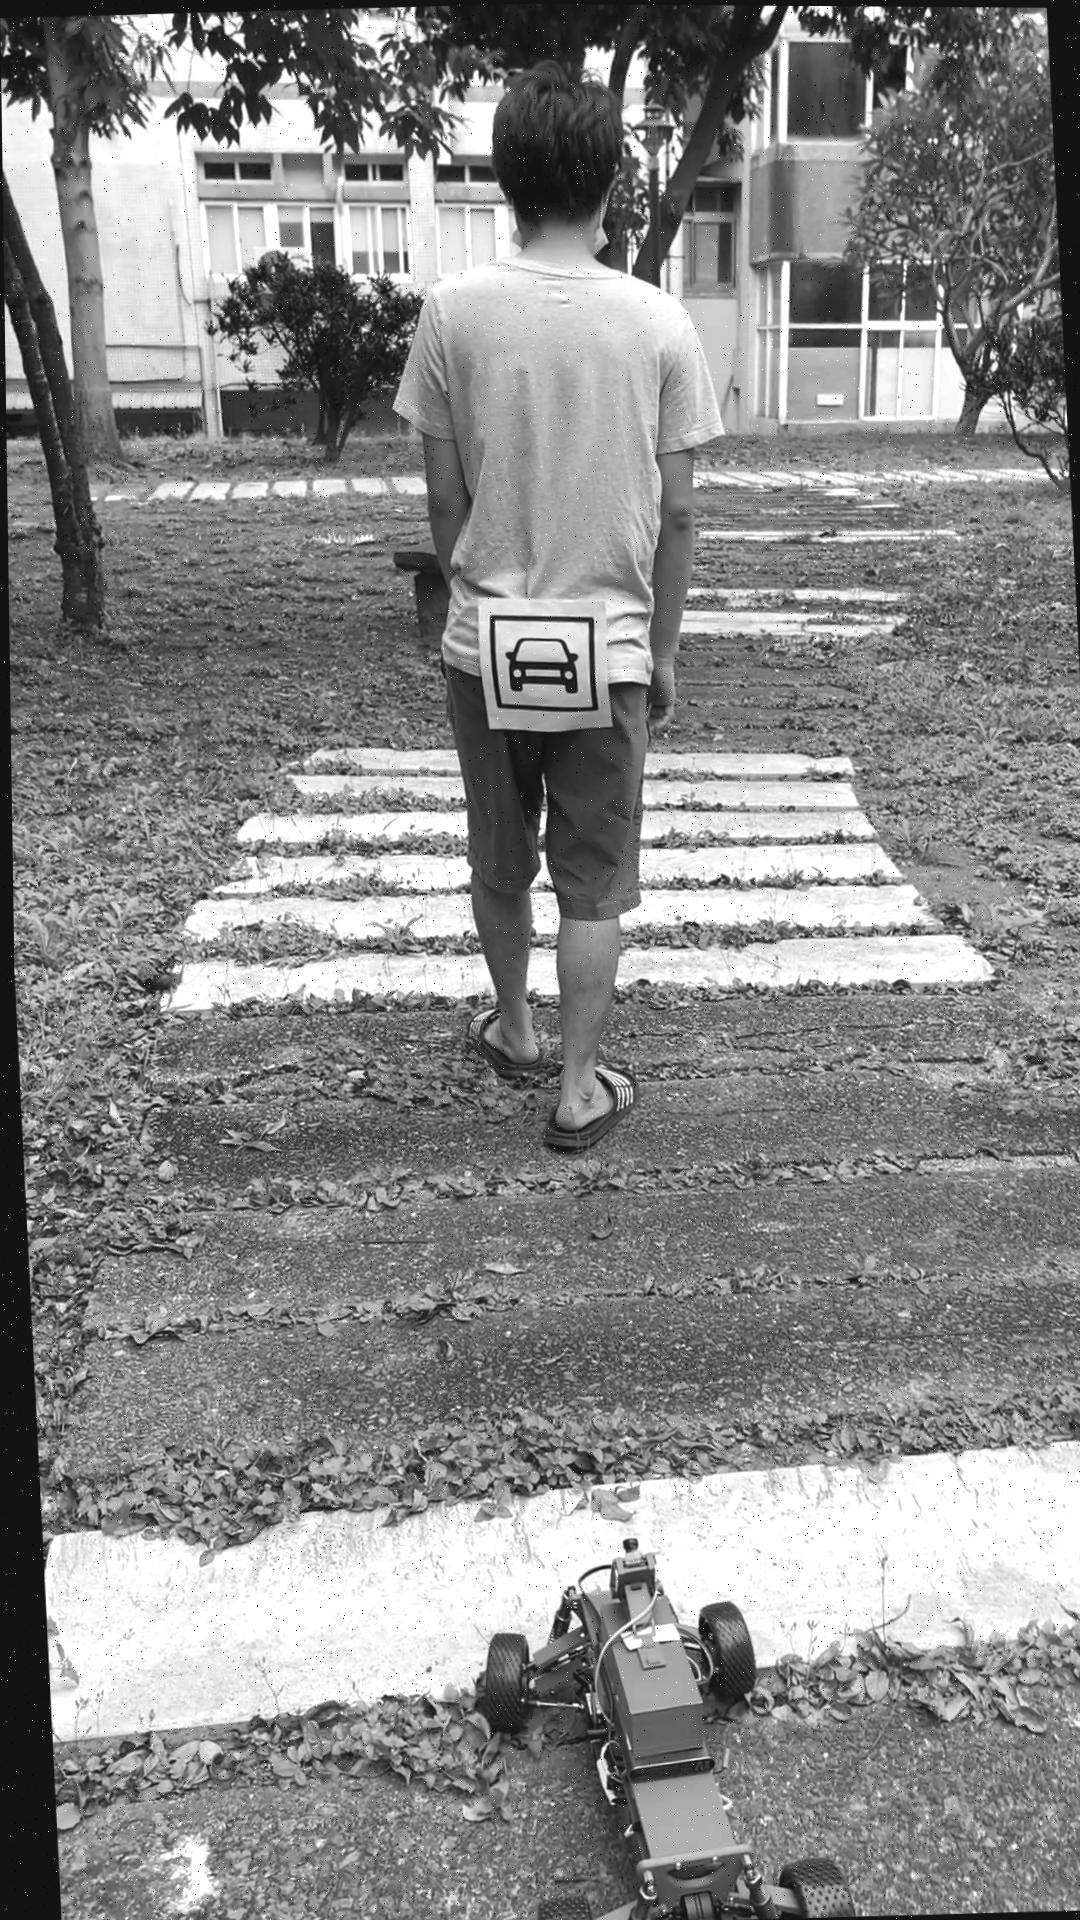car_img: (487, 609, 597, 715)
